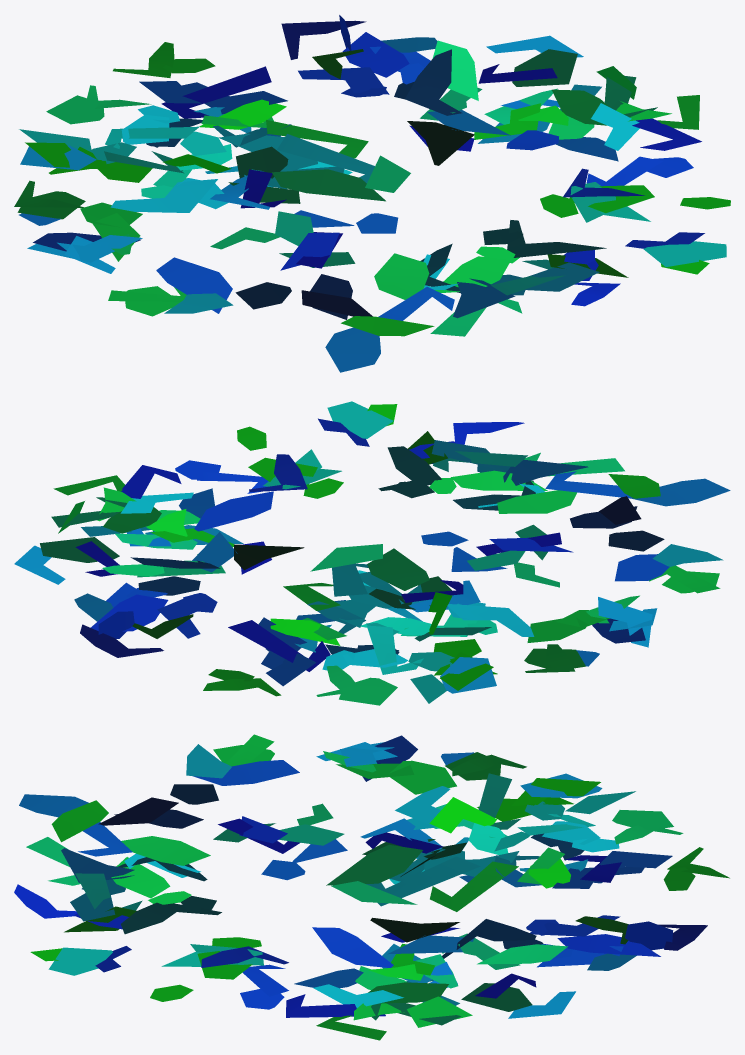
File: Bigleaf_Hydrangea_vgztealha_Mid_vgztealha_VarB_LOD2.fbx
The picture shows the model from 3 angles, top to bottom: view 1: azimuth 30°, elevation 25°; view 2: azimuth 150°, elevation 25°; view 3: azimuth 270°, elevation 25°; orthographic projection. The views are drawn at different scales.
Parts seen in each view (by area): view 1: _l05m_VarB_LOD4; view 2: _l05m_VarB_LOD4; view 3: _l05m_VarB_LOD4.
Boxes of the visible parts, <box> form: _l05m_VarB_LOD4: <box>14,15,730,372</box>; _l05m_VarB_LOD4: <box>14,401,730,705</box>; _l05m_VarB_LOD4: <box>14,734,729,1040</box>.
Size of the model in its own units: 111 by 5.92 by 111.
